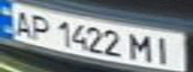1: (51, 18, 75, 48)
2: (103, 27, 127, 60), (84, 25, 106, 56)
4: (66, 21, 87, 52)
A: (6, 7, 39, 38)
I: (151, 34, 181, 65)
M: (127, 30, 157, 63)
P: (24, 11, 54, 42)
